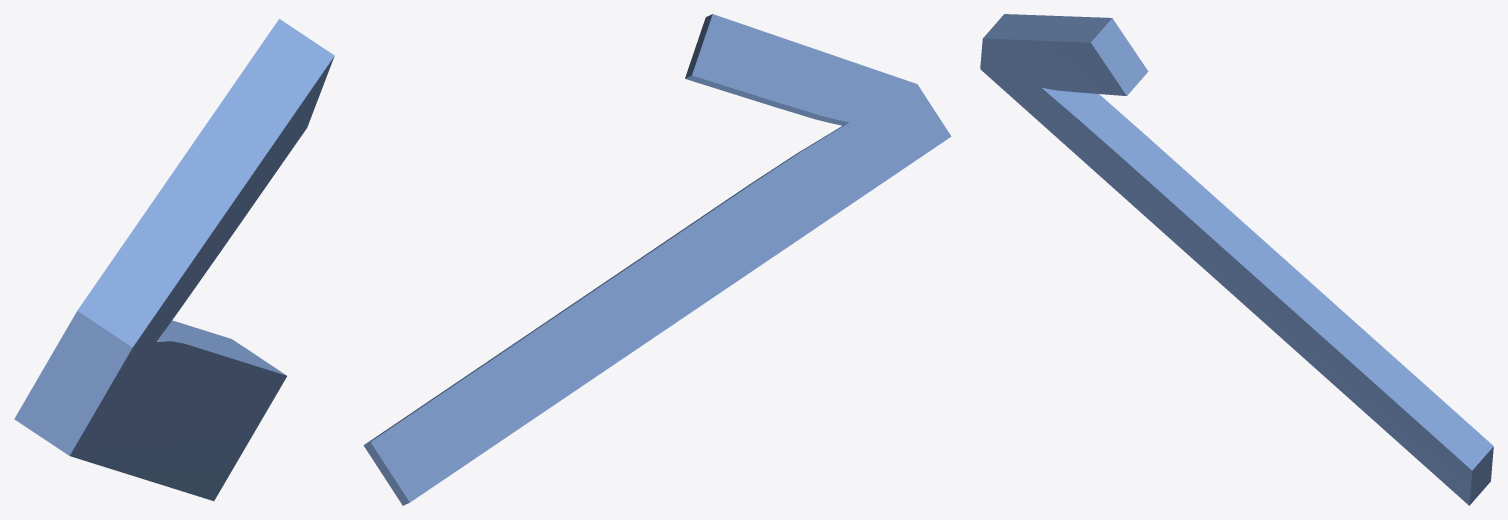
Rendered from New_Number_1.gltf.
3 views of the same model, side by side, from view 1: azimuth 30°, elevation 25°; view 2: azimuth 150°, elevation 25°; view 3: azimuth 270°, elevation 25° (orthographic). The views are drawn at different scales.
Parts seen in each view (by area): view 1: Part 352; view 2: Part 352; view 3: Part 352.
Boxes of the visible parts, x1,y1,x2,y2 form: Part 352: [14, 19, 334, 500]; Part 352: [363, 14, 951, 505]; Part 352: [980, 14, 1493, 505].
Size of the model in its own units: 0.00322 by 0.0034 by 0.00379.
